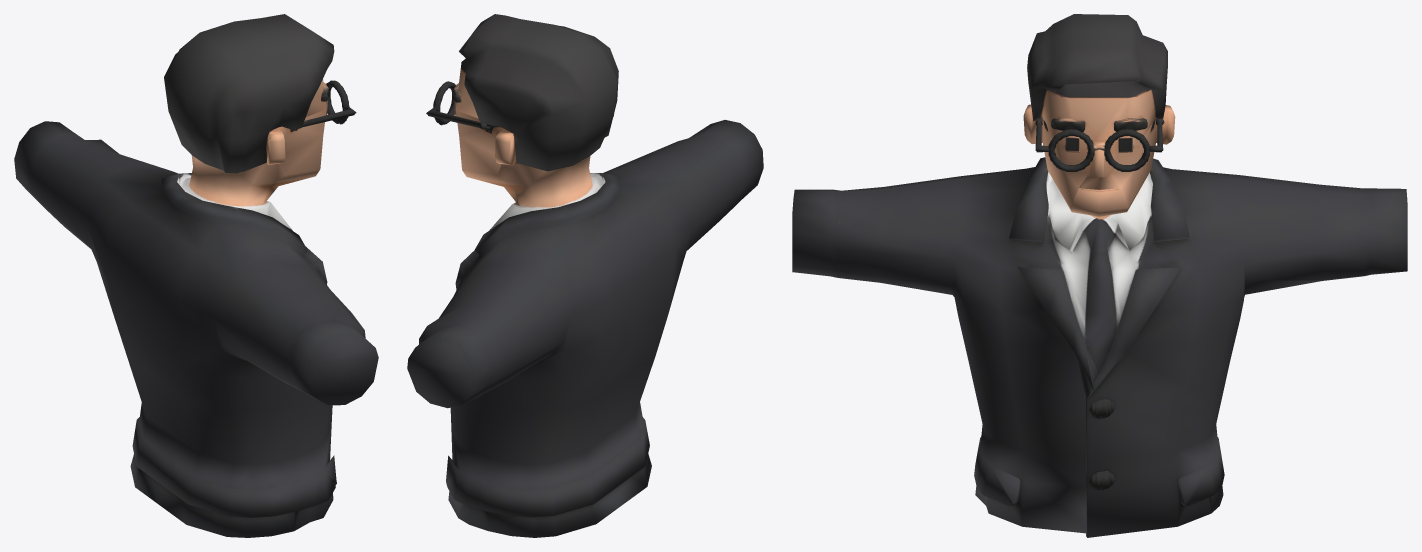
File: char_von_neumann.glb
The picture shows the model from 3 angles, left to right: view 1: azimuth 30°, elevation 25°; view 2: azimuth 150°, elevation 25°; view 3: azimuth 270°, elevation 25°; orthographic projection. The views are drawn at different scales.
Parts seen in each view (by area): view 1: tripo_node_89fc9e92-1ec7-4b6a-92e3-5e10084f2493; view 2: tripo_node_89fc9e92-1ec7-4b6a-92e3-5e10084f2493; view 3: tripo_node_89fc9e92-1ec7-4b6a-92e3-5e10084f2493.
Part boxes in pixels (left/top/right/bottom): tripo_node_89fc9e92-1ec7-4b6a-92e3-5e10084f2493: left=14, top=14, right=378, bottom=537; tripo_node_89fc9e92-1ec7-4b6a-92e3-5e10084f2493: left=407, top=14, right=763, bottom=537; tripo_node_89fc9e92-1ec7-4b6a-92e3-5e10084f2493: left=792, top=14, right=1407, bottom=537.
Size of the model in its own units: 0.3613 by 0.8457 by 0.998.
Materials: 1 (1 with a texture image).
